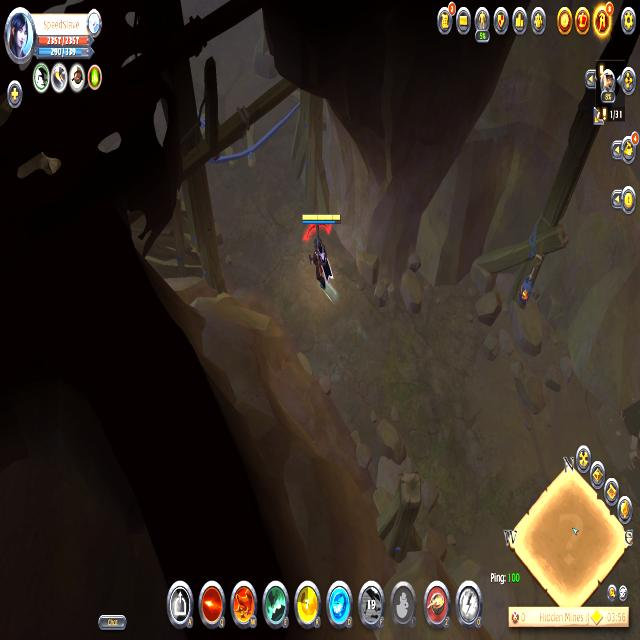red: (298, 205, 342, 304)
